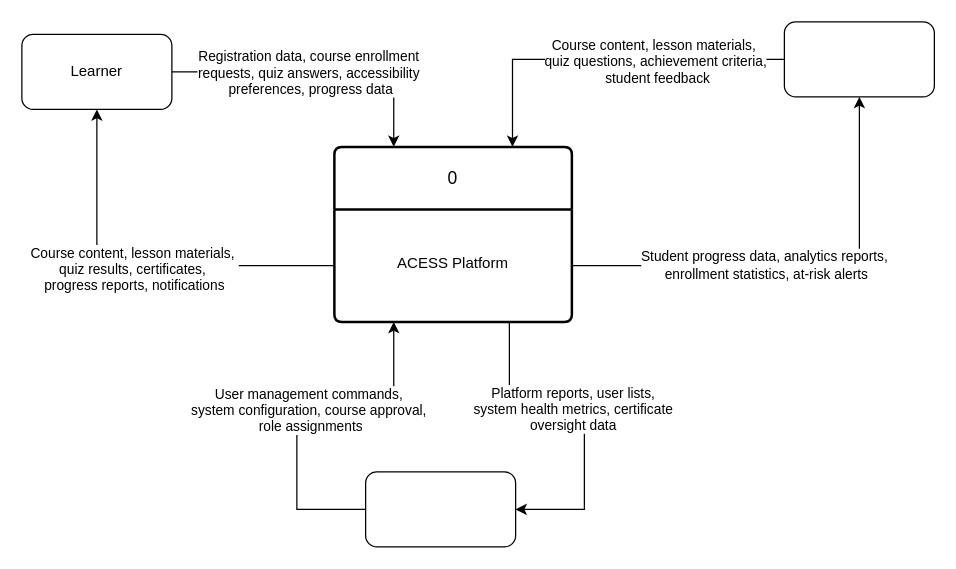
This 956x569 diagram has some shape labels left out. Here are the shapes that lost their labels. From the top down, the centre of each, then its label:
the point at 858,59: Educator
the point at 440,509: Admin
